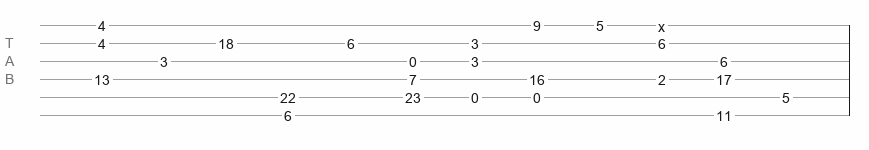0: (409, 54, 417, 64), (471, 90, 479, 100), (533, 90, 541, 100)
11: (716, 108, 732, 118)
13: (94, 72, 110, 82)
16: (529, 72, 545, 82)
17: (716, 72, 732, 82)
18: (218, 36, 234, 46)
2: (658, 72, 666, 82)
22: (280, 90, 296, 100)
23: (405, 90, 421, 100)
3: (160, 54, 168, 64), (471, 36, 479, 46), (471, 54, 479, 64)
4: (98, 18, 106, 28), (98, 36, 106, 46)
5: (596, 18, 604, 28), (782, 90, 790, 100)
6: (284, 108, 292, 118), (347, 36, 355, 46), (658, 36, 666, 46), (720, 54, 728, 64)
7: (409, 72, 417, 82)
9: (533, 18, 541, 28)
x: (658, 19, 665, 27)
